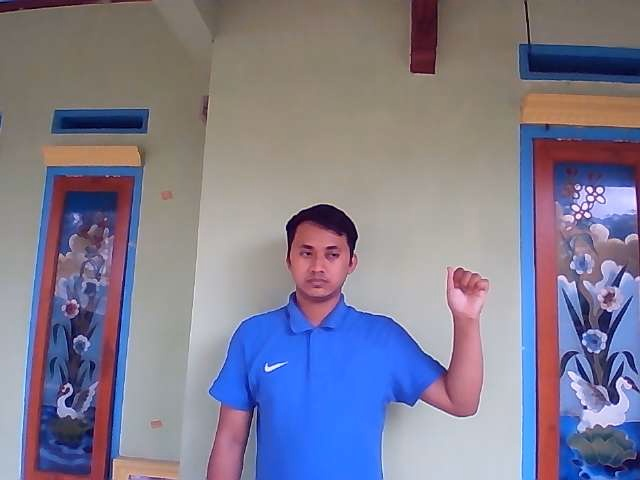A: (445, 264, 491, 318)
